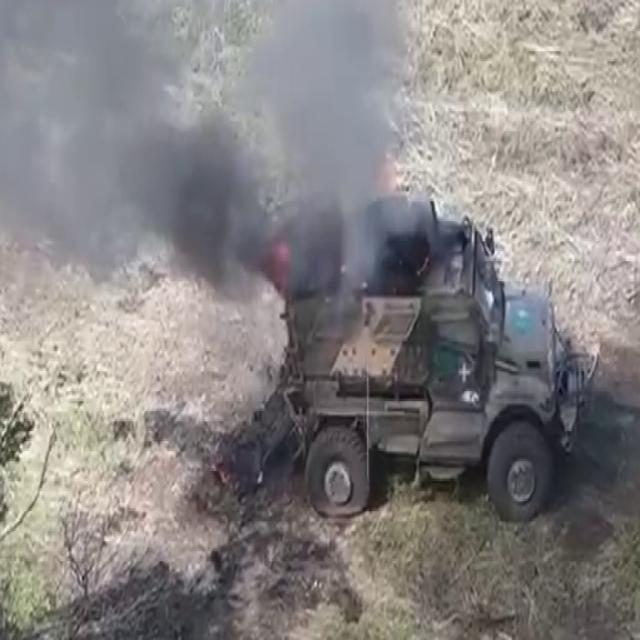CAR: (278, 189, 582, 522)
